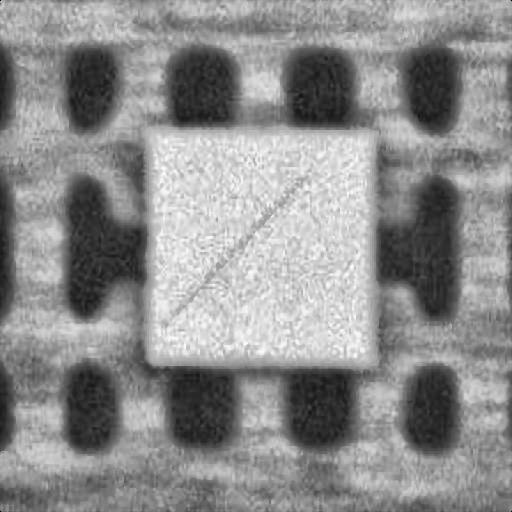DIE_CRACK: (242, 115, 456, 216)
